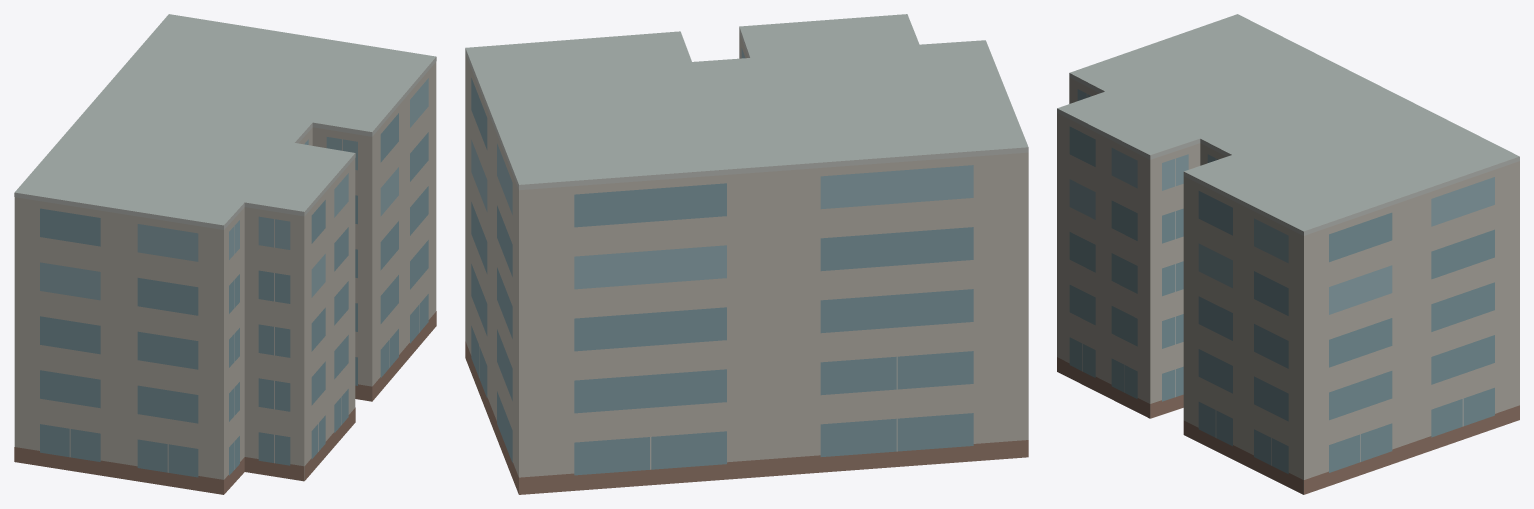
File: survey-upis-32954897.glb
3 views of the same model, side by side, from view 1: azimuth 30°, elevation 25°; view 2: azimuth 150°, elevation 25°; view 3: azimuth 270°, elevation 25° (orthographic). The views are drawn at different scales.
Visible parts, largest first — view 1: survey-upis-32954897.tmp; view 2: survey-upis-32954897.tmp; view 3: survey-upis-32954897.tmp.
Part boxes in pixels (bbox=[...]): survey-upis-32954897.tmp: bbox=[14, 14, 436, 494]; survey-upis-32954897.tmp: bbox=[465, 14, 1028, 494]; survey-upis-32954897.tmp: bbox=[1057, 14, 1519, 494].
Size of the model in its own units: 25.15 by 14.2 by 22.61.
